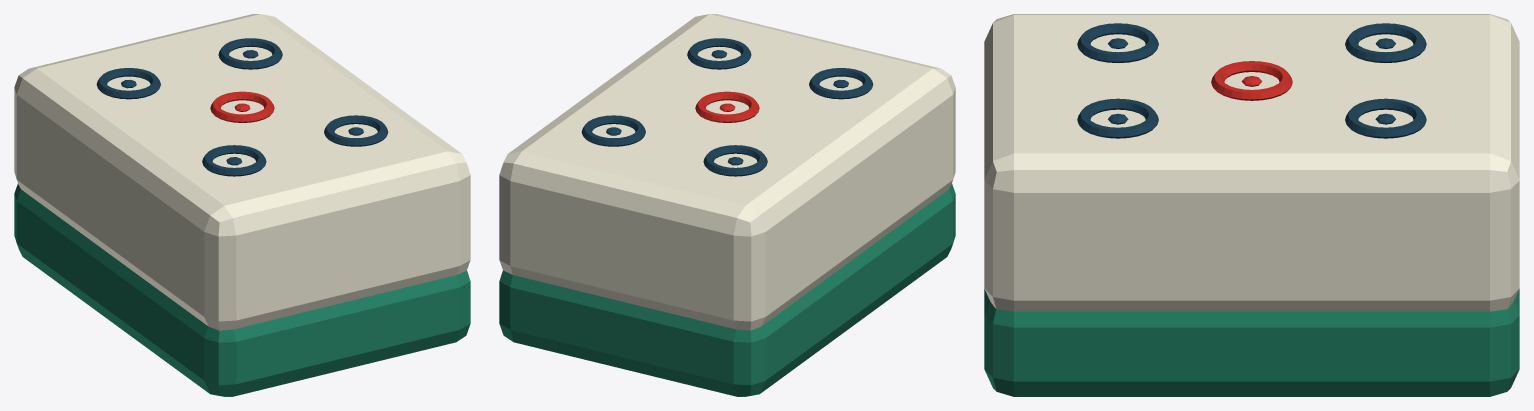
The model's file is TilePin5.fbx.
The picture shows the model from 3 angles, left to right: view 1: azimuth 30°, elevation 25°; view 2: azimuth 150°, elevation 25°; view 3: azimuth 270°, elevation 25°; orthographic projection. The views are drawn at different scales.
Parts seen in each view (by area): view 1: TileFace, TileBack, Pip_1, Pip_2, Pip_0, Pip_4, Pip_3; view 2: TileFace, TileBack, Pip_4, Pip_2, Pip_3, Pip_1, Pip_0; view 3: TileFace, TileBack, Pip_2, Pip_0, Pip_3, Pip_1, Pip_4.
Part boxes in pixels (x1,y1,x2,y2): TileFace: (14, 14, 470, 330); TileBack: (14, 184, 470, 396); Pip_1: (324, 115, 388, 146); Pip_2: (210, 91, 274, 122); Pip_0: (202, 145, 266, 176); Pip_4: (218, 38, 282, 69); Pip_3: (96, 68, 160, 99); TileFace: (499, 14, 955, 330); TileBack: (499, 184, 955, 396); Pip_4: (581, 115, 645, 146); Pip_2: (695, 91, 759, 122); Pip_3: (703, 145, 767, 176); Pip_1: (687, 38, 751, 69); Pip_0: (809, 68, 873, 99); TileFace: (984, 14, 1519, 311); TileBack: (984, 289, 1519, 396); Pip_2: (1211, 61, 1292, 100); Pip_0: (1077, 23, 1158, 62); Pip_3: (1345, 23, 1426, 62); Pip_1: (1077, 98, 1158, 138); Pip_4: (1345, 98, 1426, 138).
Size of the model in its own units: 0.026 by 0.0185 by 0.036.
